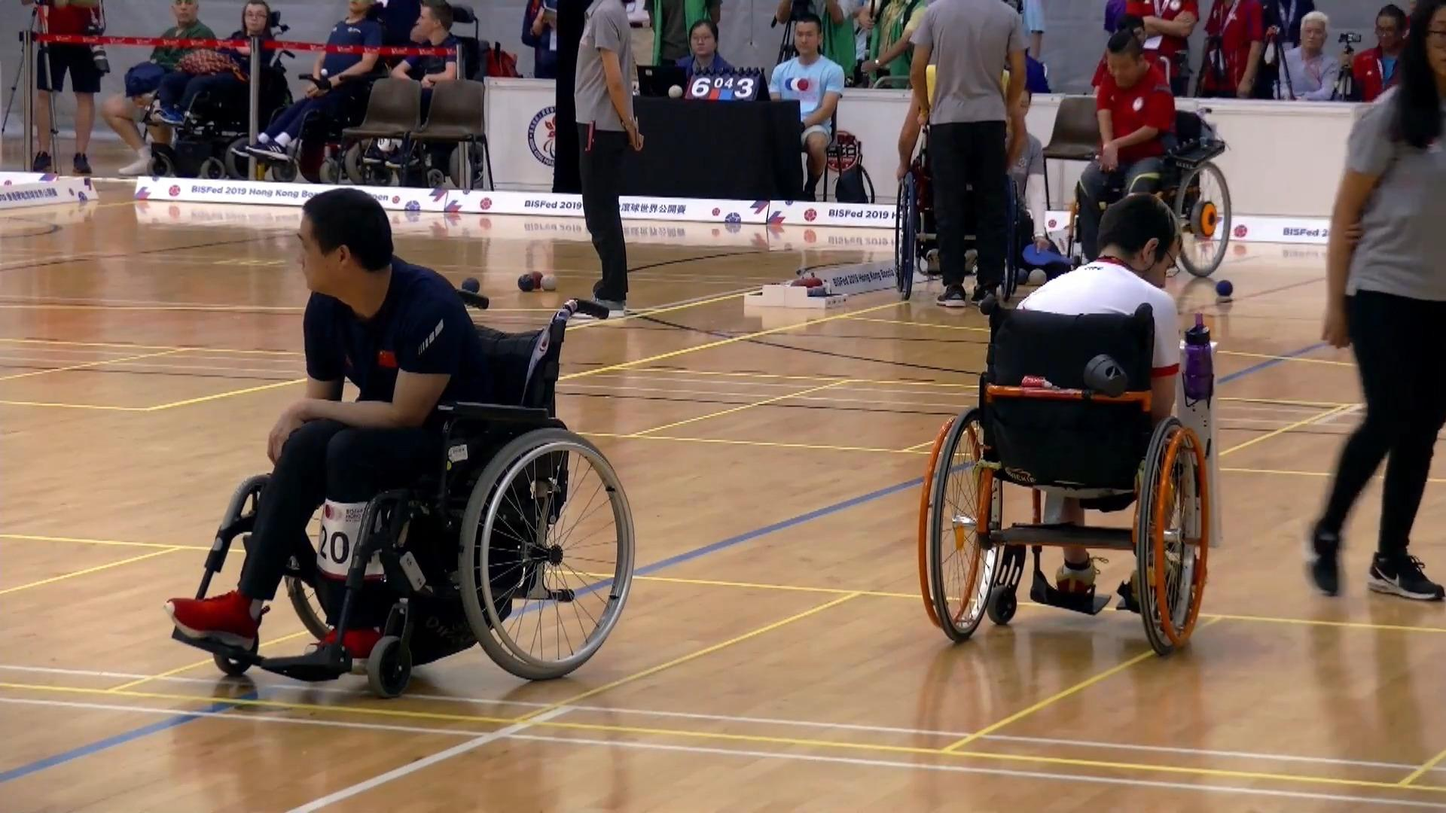blue_ball: (1213, 277, 1236, 300), (517, 273, 536, 295), (460, 276, 482, 294)
white_ball: (1027, 266, 1048, 288), (539, 273, 560, 293)
